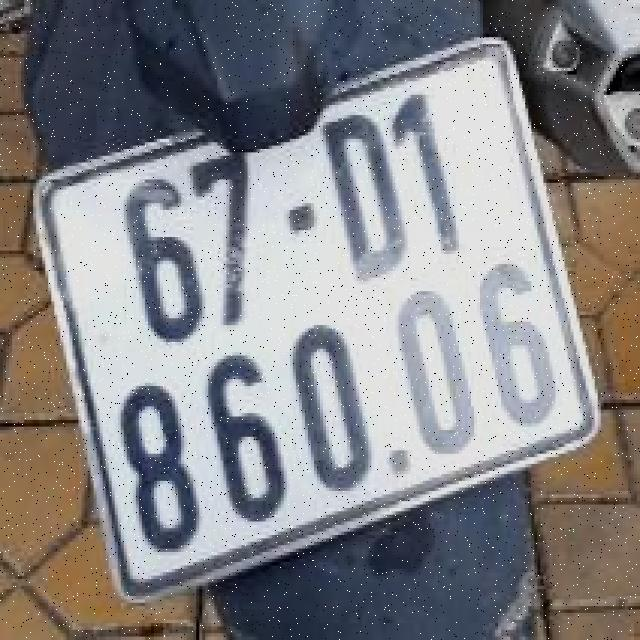0: (276, 310, 370, 499), (383, 281, 474, 467)
1: (400, 85, 478, 271)
6: (106, 173, 205, 345), (201, 344, 291, 523), (482, 262, 560, 425)
7: (195, 142, 261, 322)
8: (115, 364, 202, 567)
D: (303, 107, 409, 286)
